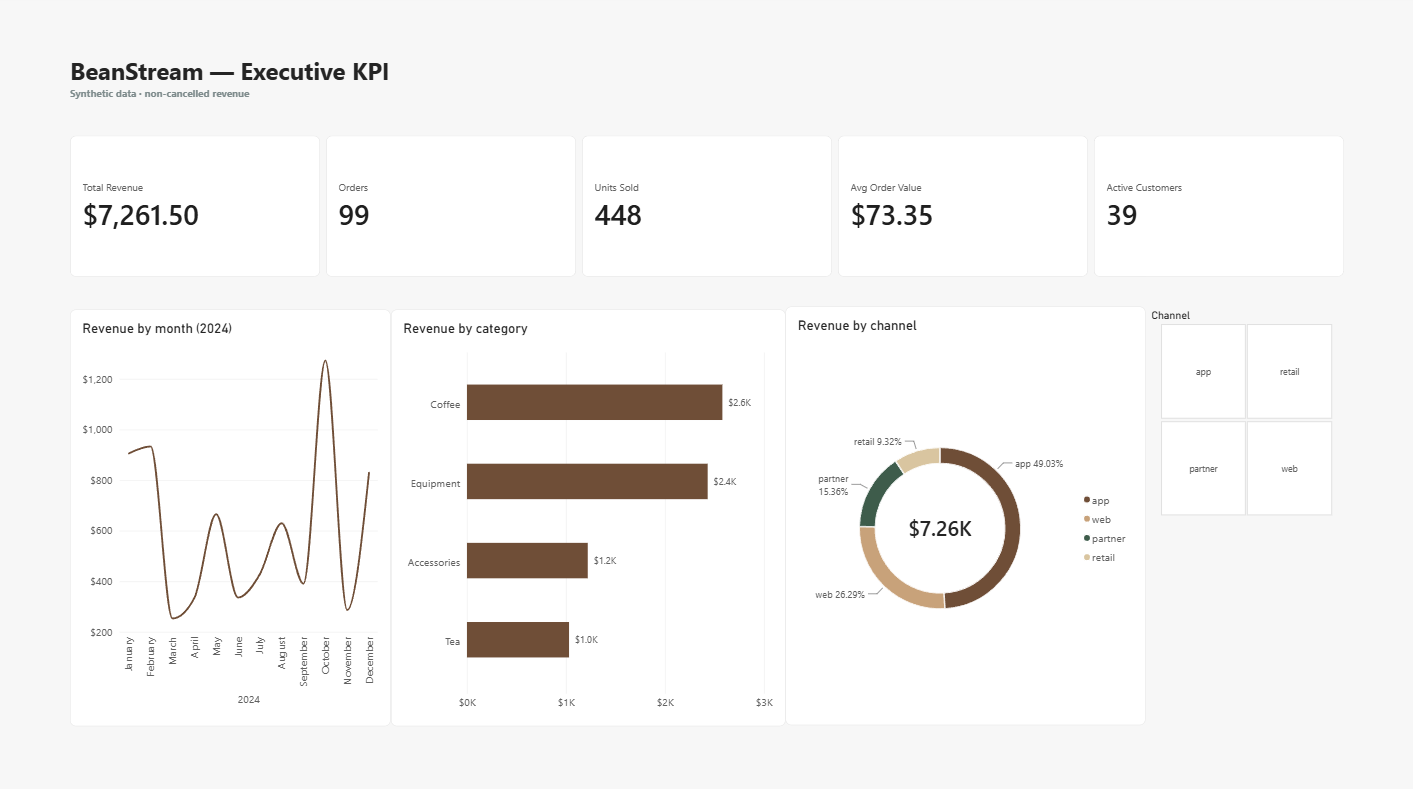

This screenshot's page, from the dashboard's own definition file:
{"tool":"powerbi","page":{"name":"Executive","canvas":[1920,1080],"ordinal":0},"visuals":[{"type":"cardVisual","fields":{"Data":["fact_sales.Total Revenue","fact_sales.Orders","fact_sales.Units Sold","fact_sales.AOV","fact_sales.Active Customers"]},"box":[97.3,191.6,1724.5,191.6],"z":0},{"type":"textbox","box":[97.3,82.5,1724.5,132.7],"z":1000},{"type":"lineChart","title":"Revenue by month (2024)","fields":{"Category":["dim_date.year","dim_date.month_name"],"Y":["fact_sales.Total Revenue"]},"box":[97.3,427.4,433.3,563],"z":2000},{"type":"clusteredBarChart","title":"Revenue by category","fields":{"Category":["dim_product.category"],"Y":["fact_sales.Total Revenue"]},"box":[530.6,427.4,533.6,563],"z":3000},{"type":"donutChart","title":"Revenue by channel","fields":{"Category":["dim_channel.channel"],"Y":["fact_sales.Total Revenue"]},"box":[1064.2,424.5,486.4,566],"z":4000},{"type":"slicer","fields":{"Values":["dim_channel.channel"]},"box":[1550.6,427.4,271.2,280],"z":6000}]}

Visuals, with their boxes in screenshot pixels (x1, y1, x2, y2), scaled from the page's 1920x1080 canvas onto the 1413x789 screenshot:
cardVisual - fact_sales.Total Revenue x fact_sales.Orders: (72, 140, 1341, 280)
textbox: (72, 60, 1341, 157)
"Revenue by month (2024)" lineChart: (72, 312, 390, 724)
"Revenue by category" clusteredBarChart: (390, 312, 783, 724)
"Revenue by channel" donutChart: (783, 310, 1141, 724)
slicer - dim_channel.channel: (1141, 312, 1341, 517)
